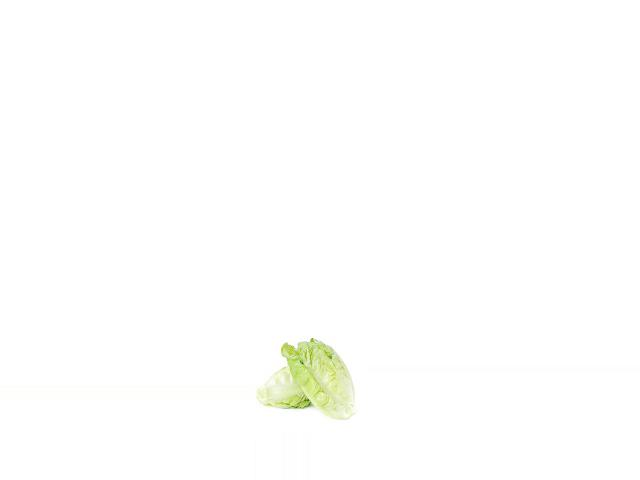lettuce: (254, 363, 312, 413)
